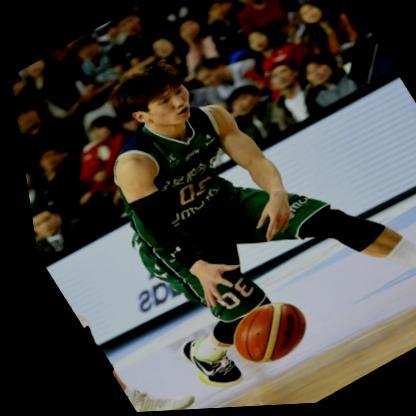basketball: (208, 293, 311, 376)
